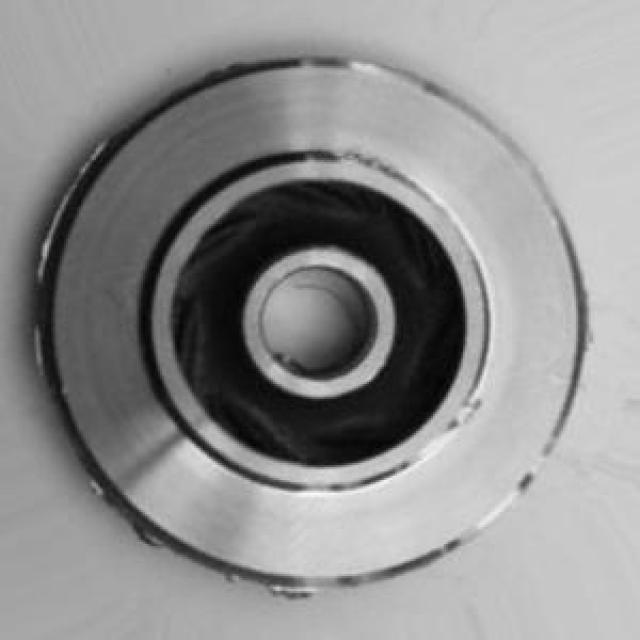Defect: (248, 565, 324, 612)
